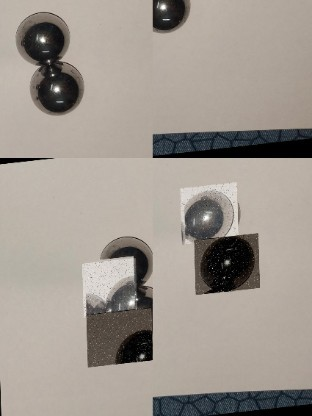ironball: (192, 236, 258, 297), (179, 185, 237, 246), (31, 59, 89, 111), (96, 233, 152, 283), (17, 6, 70, 57), (114, 328, 152, 370), (154, 1, 194, 33), (108, 278, 136, 314), (83, 290, 112, 311)
